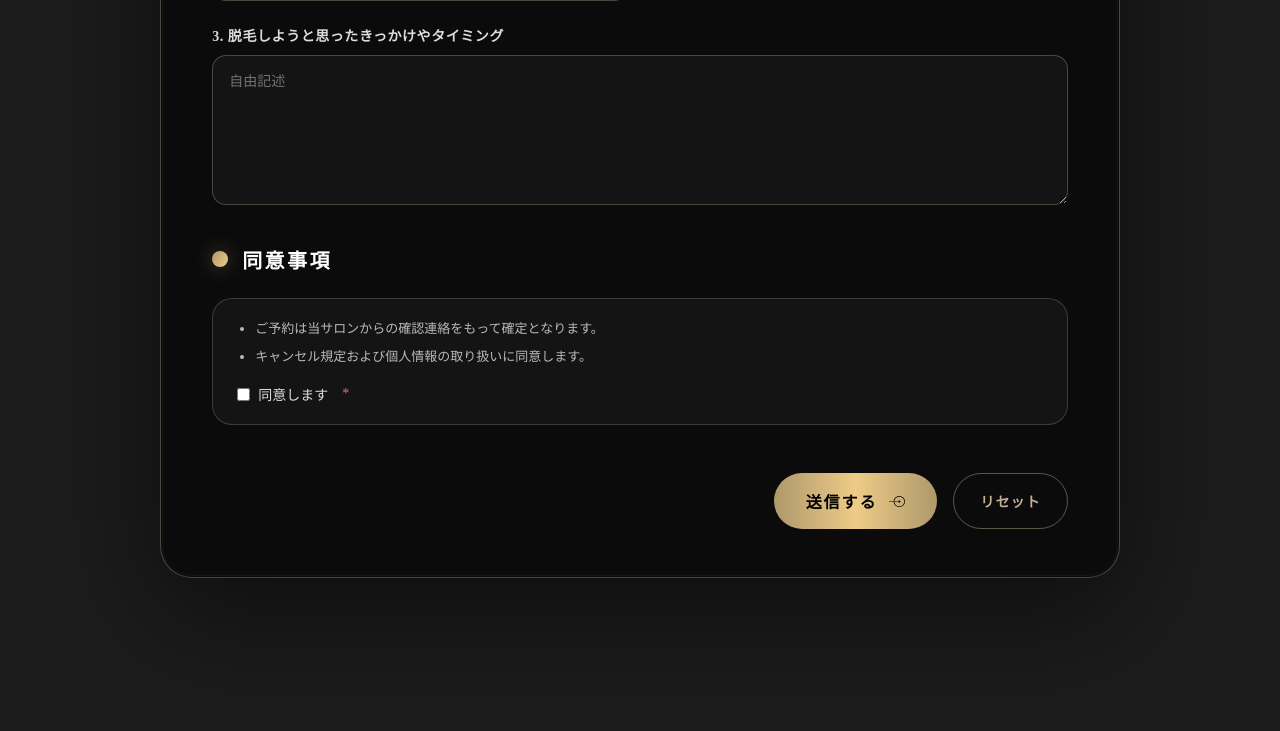
Scenario: ReserveForm › shows validation errors when required fields are missing
This screenshot has width=1280, height=731.
(page scrolled)
What coordinates should you click on to do the following:
click the button "送信する"
I would click on:
 (855, 501)
Its box is [774,473,937,529].
(page scrolled)
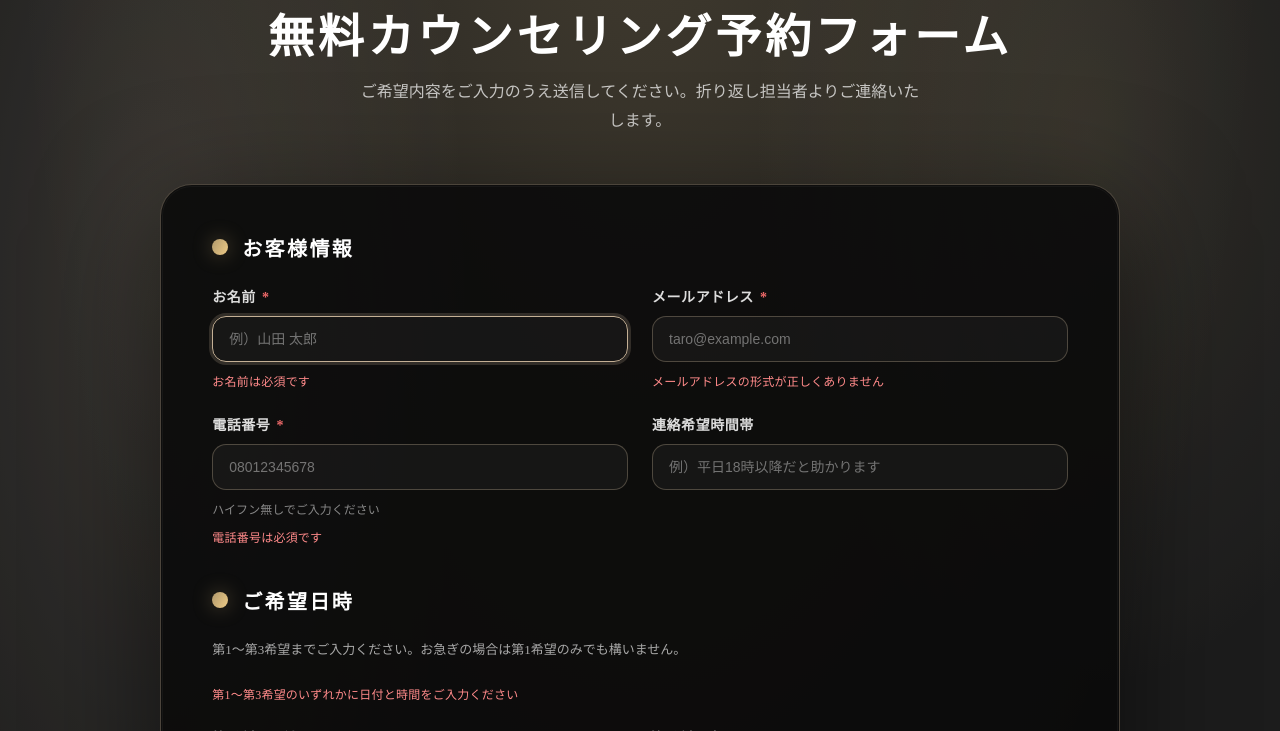
Expected: the text "お名前は必須です" is shown, [212,375,310,389]
Expected: the text "メールアドレスの形式が正しくありません" is shown, [652,375,884,389]
Expected: the text "電話番号は必須です" is shown, [212,531,322,545]
